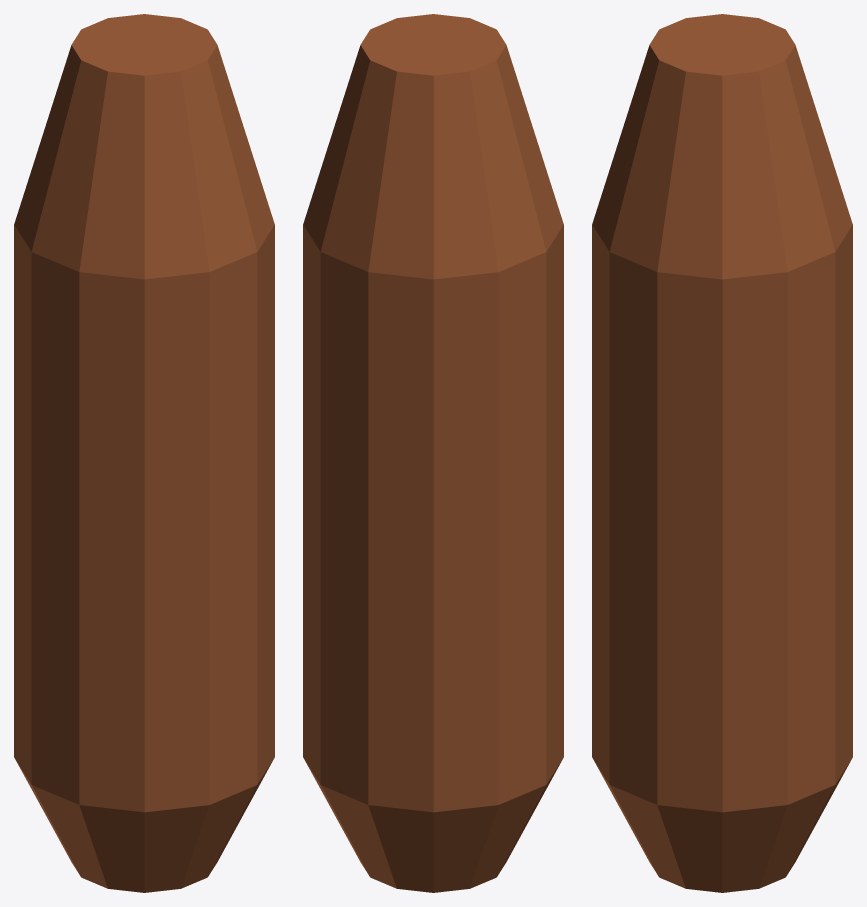
Rendered from Tank10.gltf.
3 views of the same model, side by side, from view 1: azimuth 30°, elevation 25°; view 2: azimuth 150°, elevation 25°; view 3: azimuth 270°, elevation 25° (orthographic).
Parts seen in each view (by area): view 1: Tank10; view 2: Tank10; view 3: Tank10.
Boxes of the visible parts, x1=… form: Tank10: x1=14, y1=14, x2=274, y2=892; Tank10: x1=303, y1=14, x2=563, y2=892; Tank10: x1=592, y1=14, x2=852, y2=892.
Size of the model in its own units: 0.8926 by 3.09 by 0.8926.
